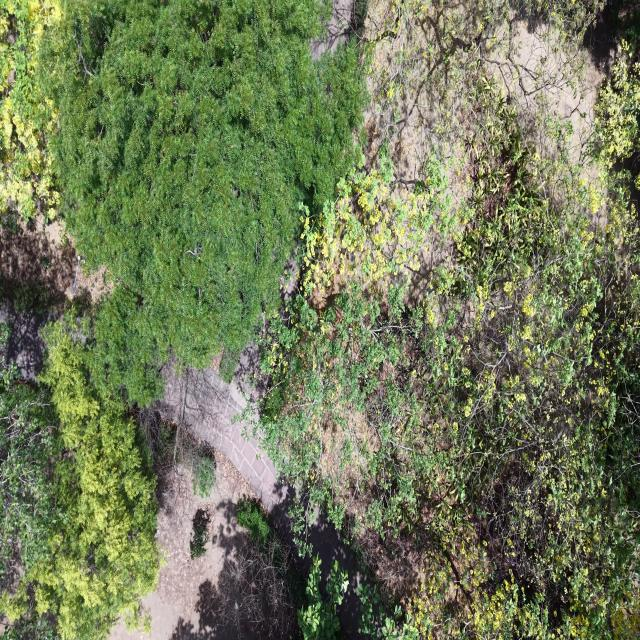DRY_AREA: (111, 348, 293, 639), (111, 349, 293, 639), (362, 0, 611, 203), (144, 370, 289, 639), (156, 347, 294, 543), (157, 347, 294, 543), (110, 452, 253, 639), (111, 453, 251, 639), (159, 350, 292, 535), (145, 453, 253, 639), (0, 214, 112, 378), (0, 216, 111, 378), (157, 366, 279, 510), (0, 216, 112, 307), (0, 220, 76, 305), (0, 301, 60, 379), (311, 0, 356, 60)
PATHWAYS: (158, 348, 294, 541), (157, 349, 294, 540)
VEGETATION_TREE: (0, 0, 639, 639), (2, 0, 364, 638), (259, 62, 639, 638), (41, 0, 365, 400), (0, 322, 159, 639), (0, 324, 159, 639), (364, 0, 632, 167), (29, 323, 159, 639), (0, 0, 72, 313), (221, 497, 348, 639), (236, 497, 349, 639), (0, 362, 59, 597), (206, 497, 303, 638), (0, 0, 60, 219), (0, 363, 57, 590), (219, 496, 302, 638), (134, 406, 216, 498), (137, 408, 216, 498), (594, 40, 639, 171), (298, 556, 349, 639), (298, 557, 348, 639), (357, 583, 419, 639), (237, 497, 274, 546), (0, 615, 59, 639), (192, 451, 215, 497), (190, 509, 210, 559)
